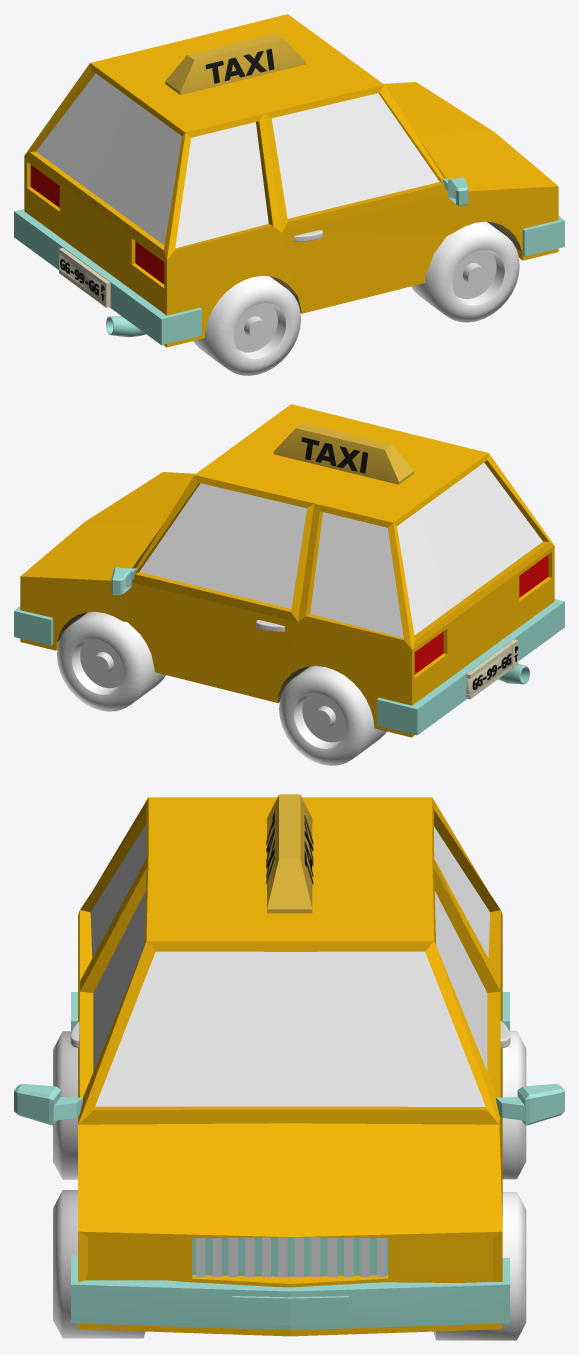
Rendered from taxiUno.fbx.
3 views of the same model, one above another, from view 1: azimuth 30°, elevation 25°; view 2: azimuth 150°, elevation 25°; view 3: azimuth 270°, elevation 25° (orthographic). The views are drawn at different scales.
Visible parts, largest first — view 1: CarrozzeriaTaxi, CarrozzeriaTaxi.003, Ruota2.001, Ruota2.000, ParaDietro, InsegnaTaxi, Cube.001, ParaDavanti, TaxiText, Cylinder, Specchietto; view 2: CarrozzeriaTaxi, CarrozzeriaTaxi.001, Ruota2.002, Ruota2.003, ParaDietro, InsegnaTaxi, Cube.001, ParaDavanti, TaxiText, Specchietto.001; view 3: CarrozzeriaTaxi, ParaDavanti, CarrozzeriaTaxi.001, CarrozzeriaTaxi.003, InsegnaTaxi, Cube.003, Ruota2.002, Ruota2.000, Ruota2.001, Ruota2.003, Specchietto, Specchietto.001 (+1 smaller).
Boxes of the visible parts, <box> form: CarrozzeriaTaxi: <box>24,14,558,347</box>; CarrozzeriaTaxi.003: <box>265,85,453,313</box>; Ruota2.001: <box>193,276,300,375</box>; Ruota2.000: <box>411,221,519,322</box>; ParaDietro: <box>14,209,201,345</box>; InsegnaTaxi: <box>165,33,305,94</box>; Cube.001: <box>59,248,110,307</box>; ParaDavanti: <box>522,216,564,256</box>; TaxiText: <box>205,49,274,83</box>; Cylinder: <box>106,316,145,337</box>; Specchietto: <box>442,177,468,205</box>; CarrozzeriaTaxi: <box>20,404,554,737</box>; CarrozzeriaTaxi.001: <box>127,475,313,702</box>; Ruota2.002: <box>57,611,165,711</box>; Ruota2.003: <box>279,666,386,765</box>; ParaDietro: <box>377,599,564,735</box>; InsegnaTaxi: <box>273,423,414,484</box>; Cube.001: <box>466,639,518,699</box>; ParaDavanti: <box>14,606,53,645</box>; TaxiText: <box>301,437,367,473</box>; Specchietto.001: <box>111,567,136,595</box>; CarrozzeriaTaxi: <box>78,797,502,1336</box>; ParaDavanti: <box>71,1255,509,1330</box>; CarrozzeriaTaxi.001: <box>432,855,502,1186</box>; CarrozzeriaTaxi.003: <box>78,855,148,1124</box>; InsegnaTaxi: <box>267,794,312,913</box>; Cube.003: <box>196,1237,386,1276</box>; Ruota2.002: <box>433,1192,526,1340</box>; Ruota2.000: <box>53,1190,145,1338</box>; Ruota2.001: <box>53,1031,77,1179</box>; Ruota2.003: <box>502,1030,526,1179</box>; Specchietto: <box>14,1083,82,1125</box>; Specchietto.001: <box>496,1083,564,1125</box>.
Size of the model in its own units: 475 by 279 by 362.
